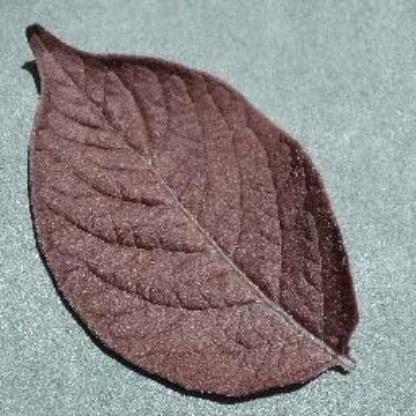Healthy-plant: (22, 21, 364, 401)
